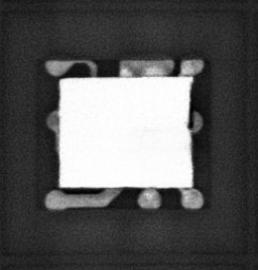DIE_BROKEN: (185, 80, 196, 130)
